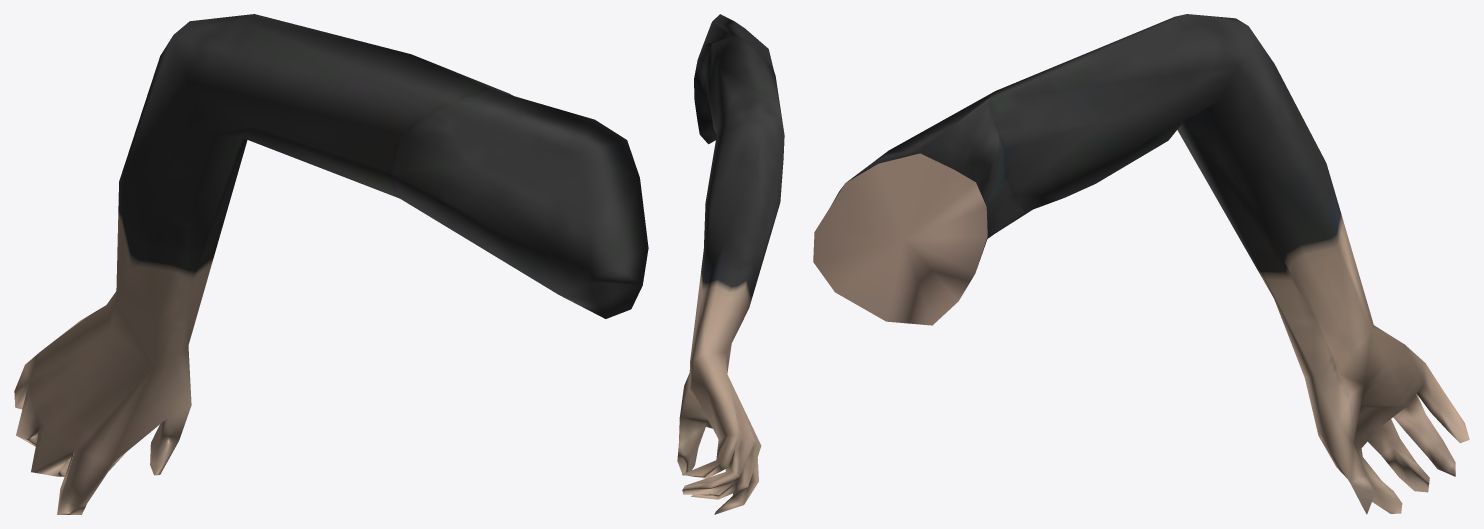
The model's file is dest_nt_nuked_female_05_arm_right_LOD2.obj.
3 views of the same model, side by side, from view 1: azimuth 30°, elevation 25°; view 2: azimuth 150°, elevation 25°; view 3: azimuth 270°, elevation 25° (orthographic). The views are drawn at different scales.
Visible parts, largest first — view 1: mtl_nt_2020_manne_fem01_head2; view 2: mtl_nt_2020_manne_fem01_head2; view 3: mtl_nt_2020_manne_fem01_head2.
Boxes of the visible parts, <box> form: mtl_nt_2020_manne_fem01_head2: <box>14,14,648,514</box>; mtl_nt_2020_manne_fem01_head2: <box>677,14,784,514</box>; mtl_nt_2020_manne_fem01_head2: <box>813,14,1469,514</box>.
Size of the model in its own units: 24.03 by 39.89 by 45.41.
